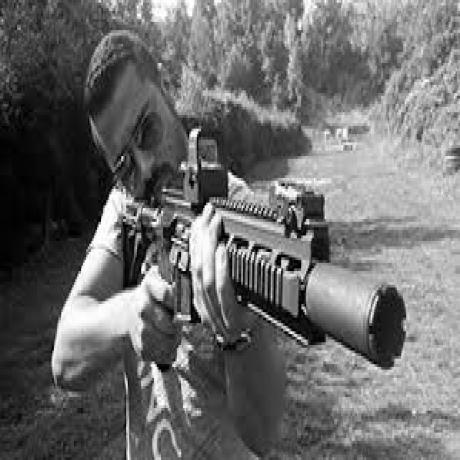Guns: (112, 128, 408, 371)
